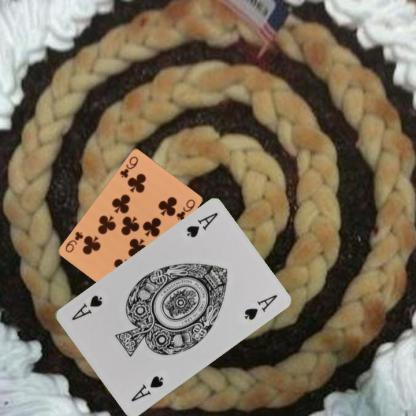9c: (118, 154, 140, 180)
As: (128, 374, 165, 404), (183, 210, 219, 240)
